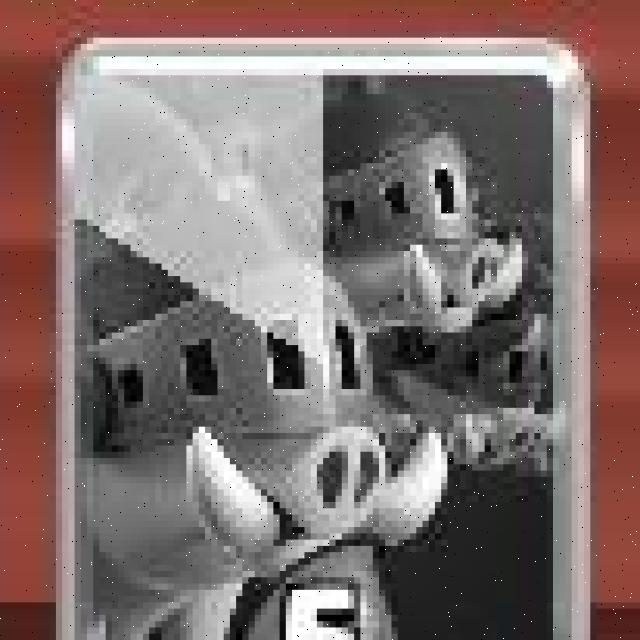Royal_Hogs: (60, 47, 595, 640)
